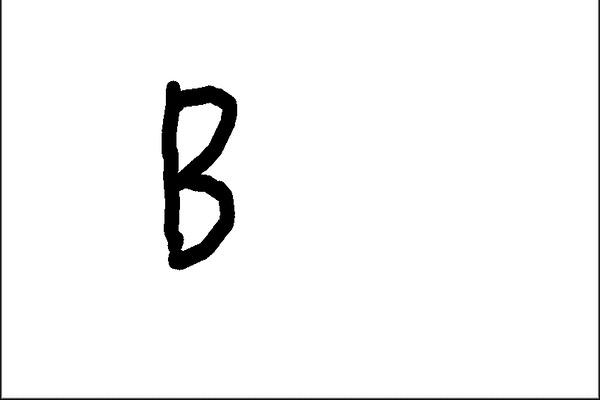B: (150, 69, 244, 275)
